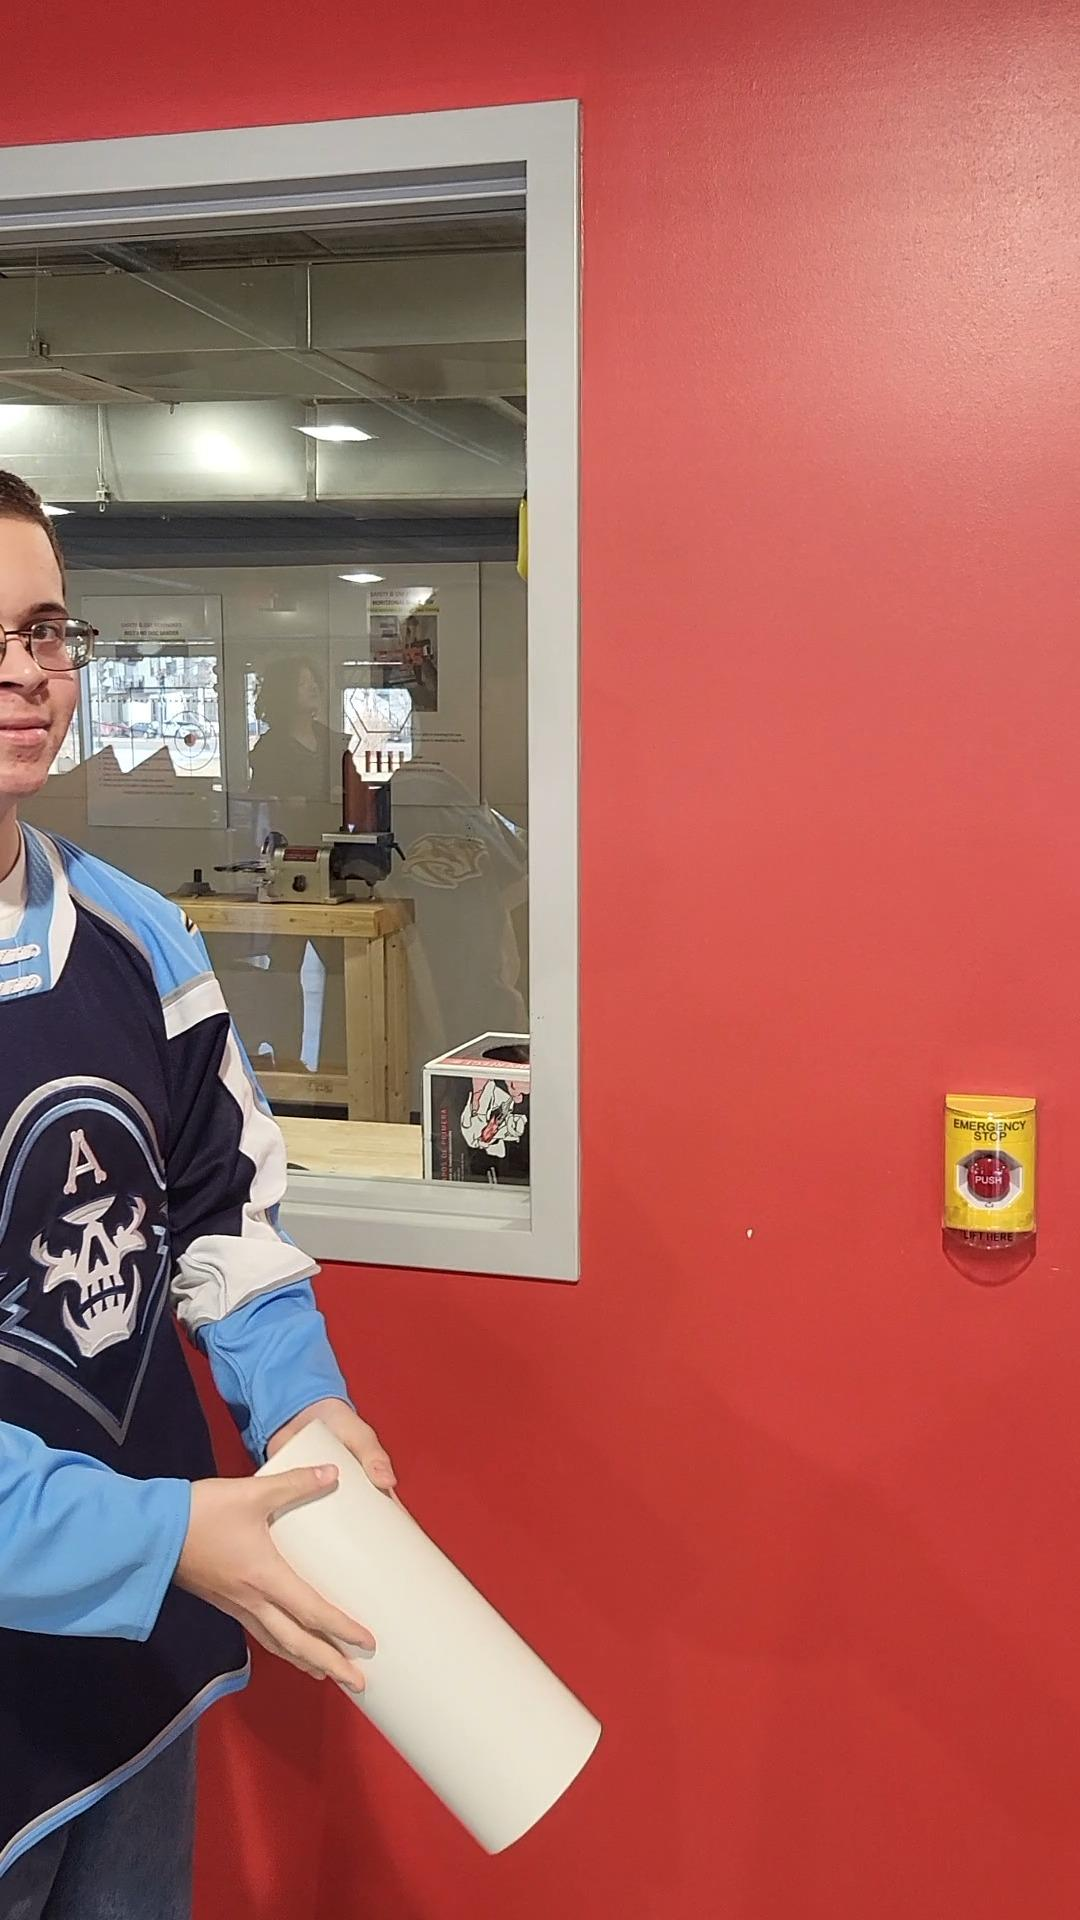coral: (229, 1416, 604, 1851)
